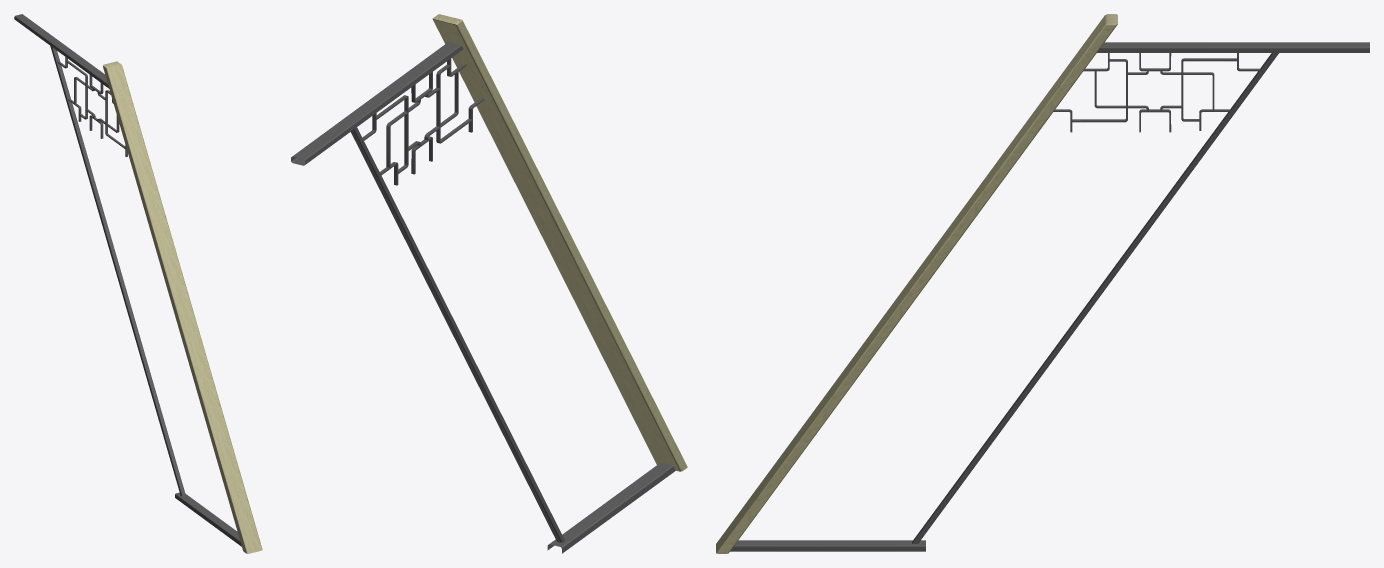
File: nt_2020_house_02_railing_01_frame_LOD0.obj
The picture shows the model from 3 angles, left to right: view 1: azimuth 30°, elevation 25°; view 2: azimuth 150°, elevation 25°; view 3: azimuth 270°, elevation 25°; orthographic projection. The views are drawn at different scales.
Visible parts, largest first — view 1: nt_2020_wood_cream, nt_2020_metal_brushed; view 2: nt_2020_wood_cream, nt_2020_metal_brushed; view 3: nt_2020_metal_brushed, nt_2020_wood_cream.
Part boxes in pixels (x1,y1,x2,y2): nt_2020_wood_cream: (103, 61, 262, 553); nt_2020_metal_brushed: (14, 14, 241, 546); nt_2020_wood_cream: (432, 14, 687, 471); nt_2020_metal_brushed: (291, 42, 675, 553); nt_2020_metal_brushed: (730, 42, 1369, 551); nt_2020_wood_cream: (716, 14, 1117, 553).
Bounding box in the file's own units: 10.16 × 232 × 260.
